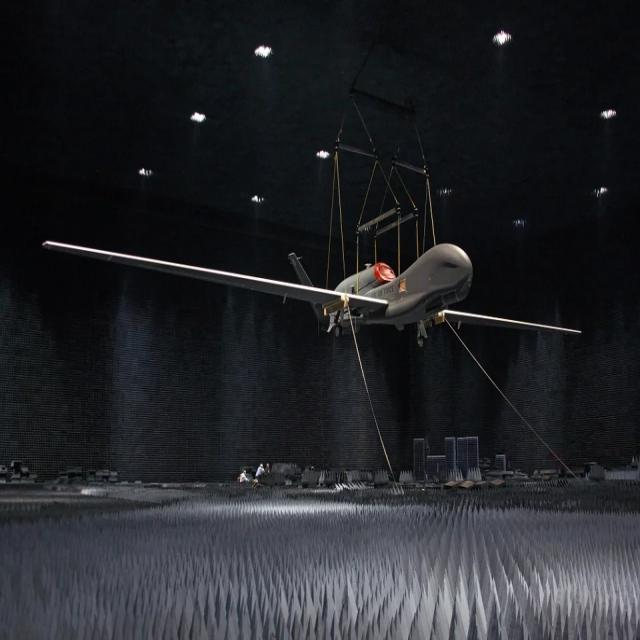MIL_Plane: (41, 240, 582, 349)
